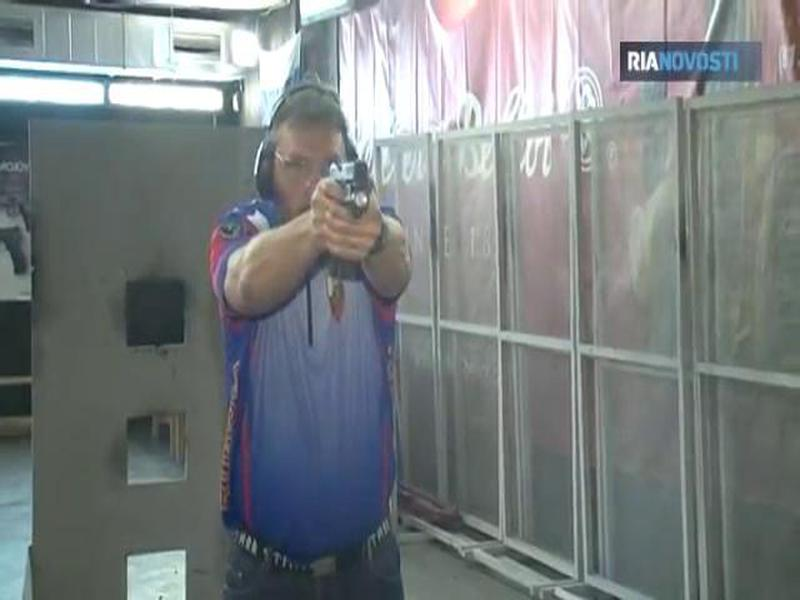Pistola: (320, 152, 383, 242)
